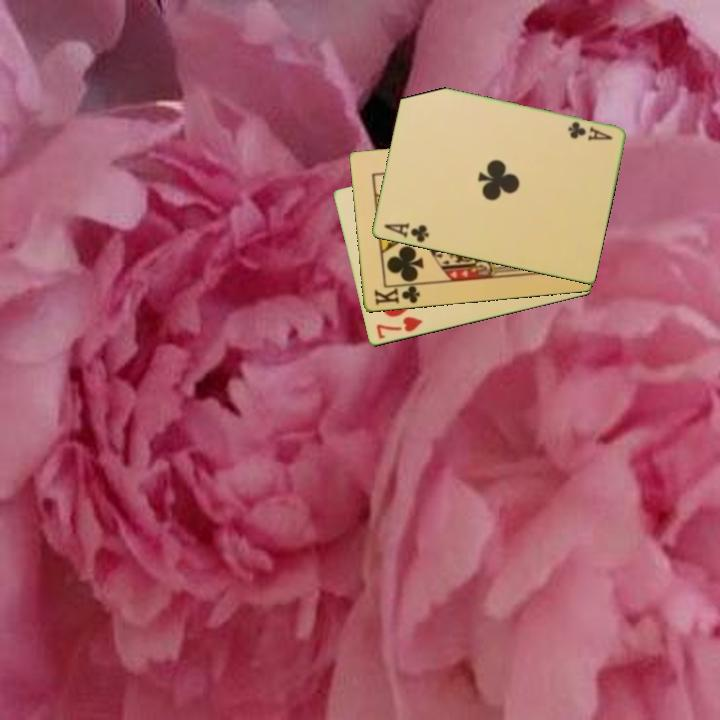7h: (372, 313, 425, 342)
Ac: (380, 219, 432, 246), (564, 118, 615, 144)
Kc: (370, 281, 424, 308)
